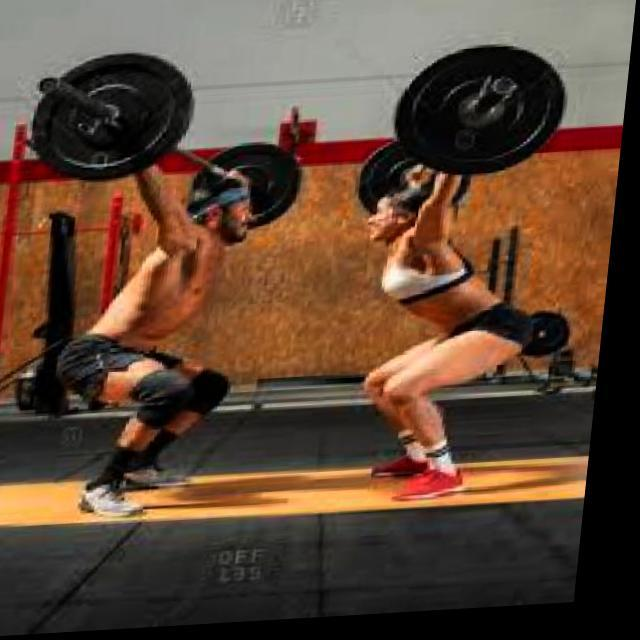barbell: (388, 46, 580, 194), (31, 50, 202, 188)
